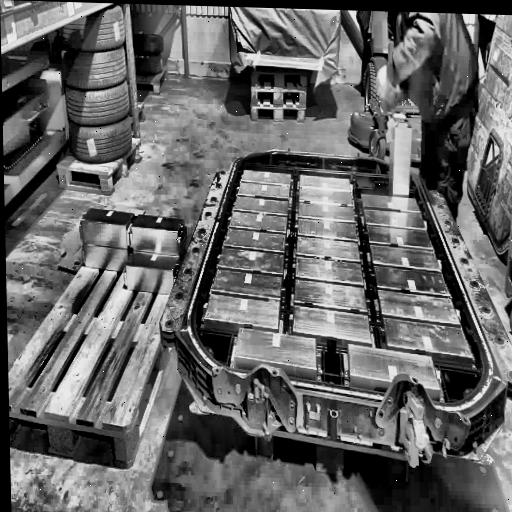b_casing: (158, 145, 512, 424)
battery_module: (78, 202, 187, 290), (348, 343, 439, 390), (383, 318, 473, 359), (234, 326, 317, 370), (293, 304, 372, 345), (378, 289, 460, 324), (205, 293, 280, 328), (294, 279, 368, 313), (373, 264, 450, 296), (212, 268, 282, 299), (296, 254, 363, 284), (366, 223, 434, 250), (218, 247, 283, 275), (297, 233, 361, 261), (370, 246, 439, 271), (225, 228, 285, 253), (296, 218, 358, 241), (228, 211, 287, 233), (392, 128, 411, 196), (364, 208, 426, 228), (297, 202, 355, 223), (233, 196, 288, 216), (361, 195, 420, 212), (298, 187, 353, 205), (237, 181, 289, 200), (299, 173, 350, 192), (241, 169, 291, 186)
